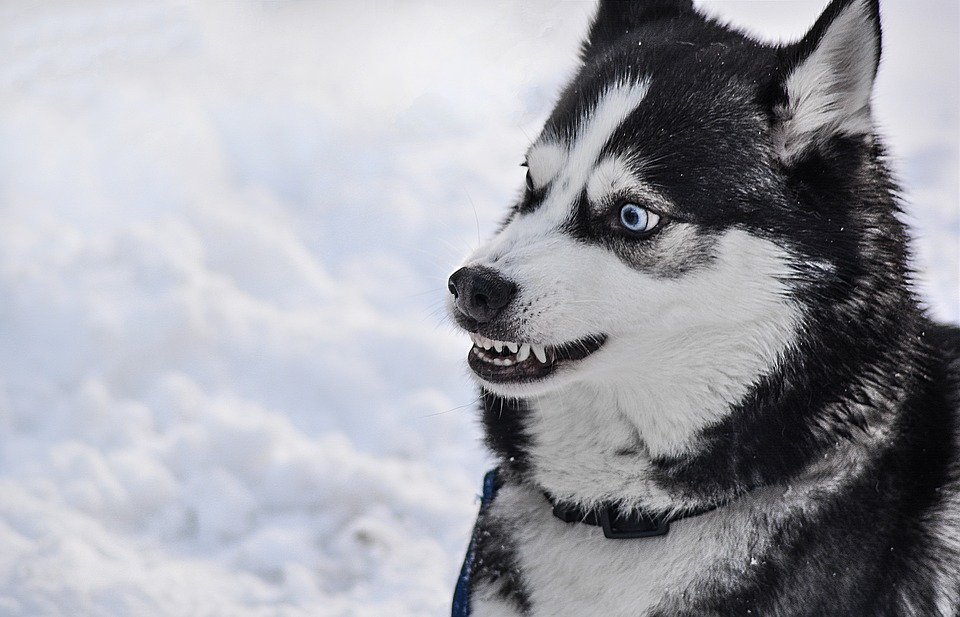husky: (435, 3, 890, 462)
